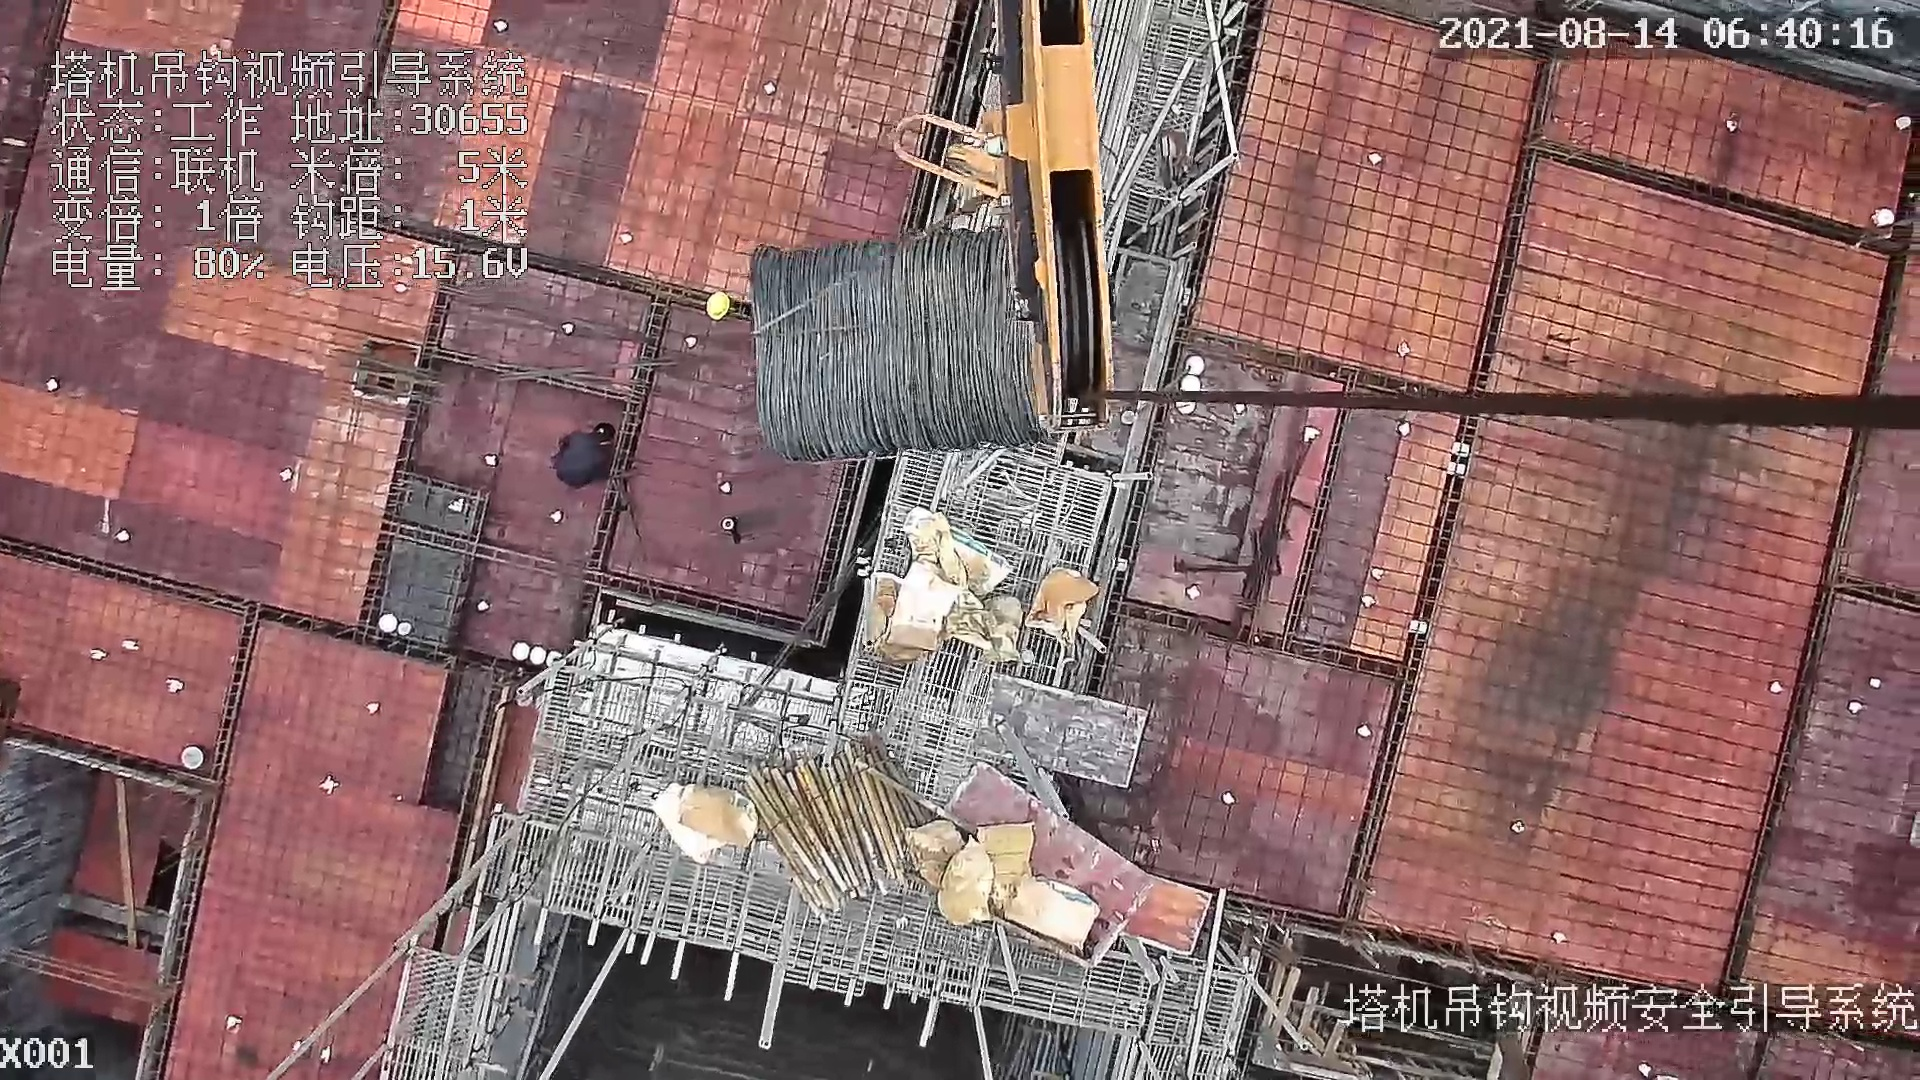helmet: (707, 291, 730, 324)
hook: (888, 26, 1126, 430)
person: (545, 414, 626, 492)
scaffold: (751, 734, 928, 894)
